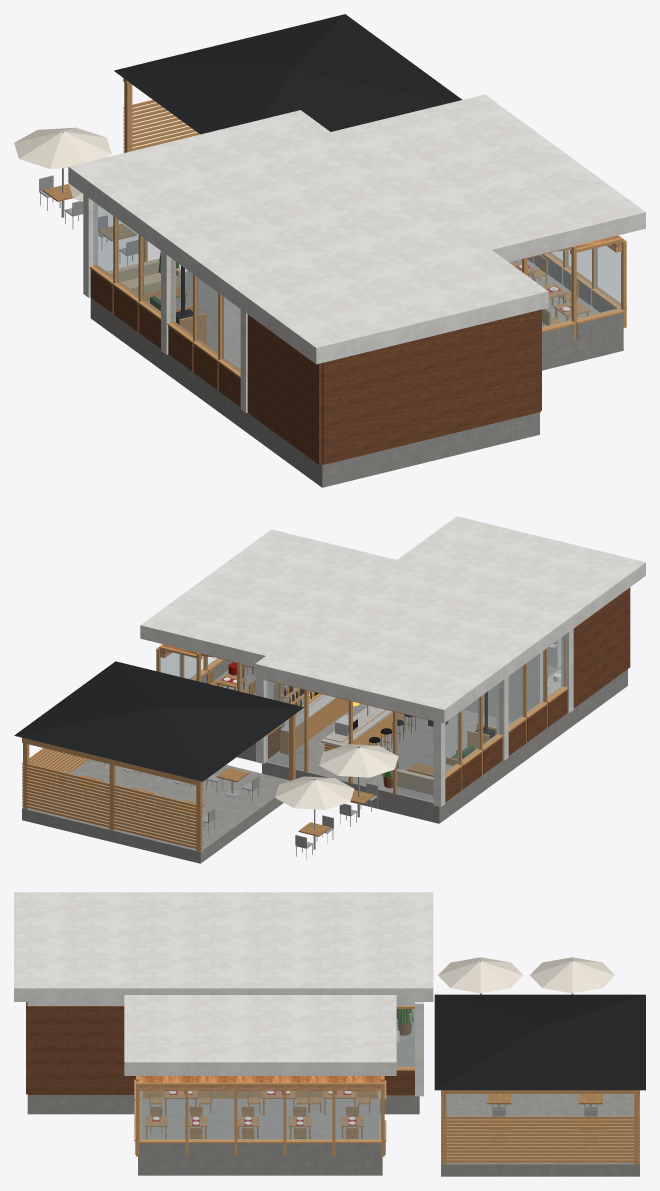
The model's file is treebar.glb.
The picture shows the model from 3 angles, top to bottom: view 1: azimuth 30°, elevation 25°; view 2: azimuth 150°, elevation 25°; view 3: azimuth 270°, elevation 25°; orthographic projection. The views are drawn at different scales.
Visible parts, largest first — view 1: intonaco-col, legno_scuro-col, telo_nero, cemento-col, vetro-col, legno_chiaro-col, ombrellone, legno_tavoli-col, divano-col, alluminio; view 2: intonaco-col, cemento-col, telo_nero, legno_chiaro-col, vetro-col, legno_scuro-col, ombrellone, legno_tavoli-col, alluminio, cemento_piano-col, legno_chiaro, divano-col (+1 smaller); view 3: intonaco-col, cemento-col, telo_nero, legno_chiaro-col, vetro-col, legno_scuro-col, ombrellone, legno_tavoli-col, larice, legno_tavoli, legno_chiaro, intonaco (+1 smaller).
Part boxes in pixels (bbox=[...]): intonaco-col: bbox=[68, 94, 645, 412]; legno_scuro-col: bbox=[90, 269, 541, 464]; telo_nero: bbox=[114, 14, 462, 134]; cemento-col: bbox=[90, 255, 623, 487]; vetro-col: bbox=[93, 202, 621, 372]; legno_chiaro-col: bbox=[89, 78, 626, 389]; ombrellone: bbox=[14, 127, 111, 207]; legno_tavoli-col: bbox=[43, 184, 590, 325]; divano-col: bbox=[107, 258, 180, 294]; alluminio: bbox=[39, 131, 138, 265]; intonaco-col: bbox=[140, 516, 645, 806]; cemento-col: bbox=[22, 660, 627, 863]; telo_nero: bbox=[14, 661, 303, 781]; legno_chiaro-col: bbox=[22, 635, 568, 851]; vetro-col: bbox=[160, 635, 565, 801]; legno_scuro-col: bbox=[268, 587, 630, 801]; ombrellone: bbox=[275, 744, 398, 809]; legno_tavoli-col: bbox=[71, 663, 457, 836]; alluminio: bbox=[59, 747, 377, 858]; cemento_piano-col: bbox=[280, 668, 561, 746]; legno_chiaro: bbox=[23, 687, 405, 783]; divano-col: bbox=[382, 768, 433, 795]; intonaco-col: bbox=[14, 892, 433, 1096]; cemento-col: bbox=[27, 1009, 639, 1176]; telo_nero: bbox=[434, 994, 645, 1090]; legno_chiaro-col: bbox=[134, 1006, 639, 1164]; vetro-col: bbox=[140, 1009, 414, 1140]; legno_scuro-col: bbox=[26, 1002, 414, 1095]; ombrellone: bbox=[438, 957, 615, 993]; legno_tavoli-col: bbox=[145, 1091, 602, 1138]; larice: bbox=[138, 1076, 382, 1090]; legno_tavoli: bbox=[149, 1091, 371, 1138]; legno_chiaro: bbox=[446, 1090, 634, 1093]; intonaco: bbox=[27, 1002, 414, 1005].
Bounding box in the file's own units: 12.85 × 4.55 × 20.65.
Materials: 33 (8 with a texture image).
